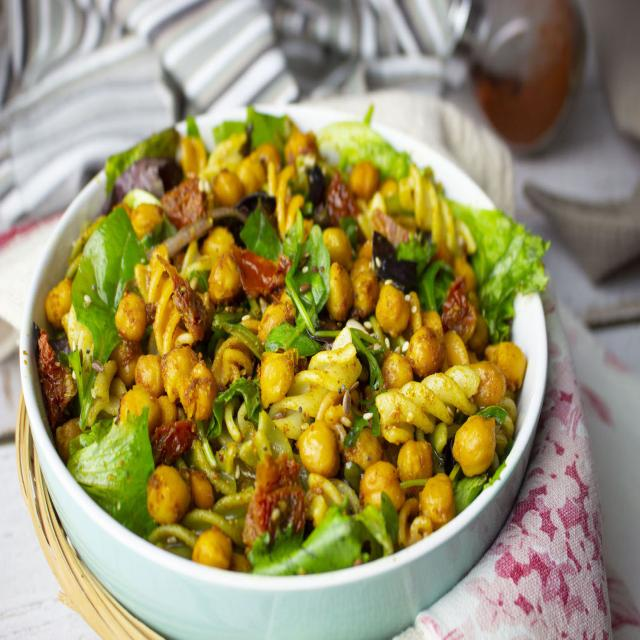garbanzos: (130, 258, 433, 498)
